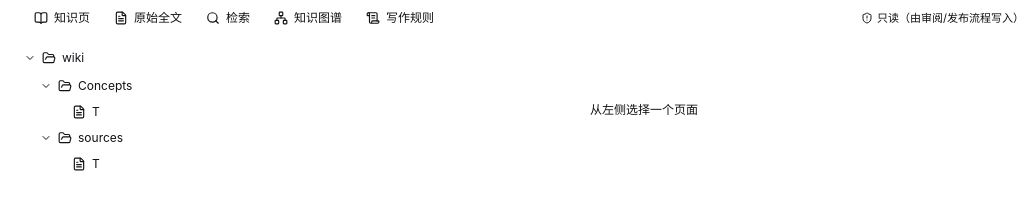
Test case: KbWikiTab 知识检索（issue 14 统一检索） › 点击 parsed 命中：浮层预览机械全文（kb.sourceParsed）
Expected: the element with test id "wiki-group-Concepts" is shown, [12,72,252,124]
Step 1. Click the button with test id "kb-wiki-search-tab" → coordinates (228, 18), box [196,6,260,30]
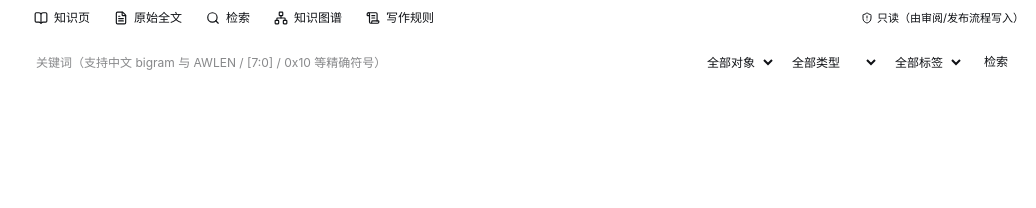
Result: the element with test id "kb-wiki-search" is shown at [28,48,1020,76]
Step 2. Type "DDS" into the field with test id "kb-wiki-search-input" → coordinates (360, 62), box [28,48,691,76]
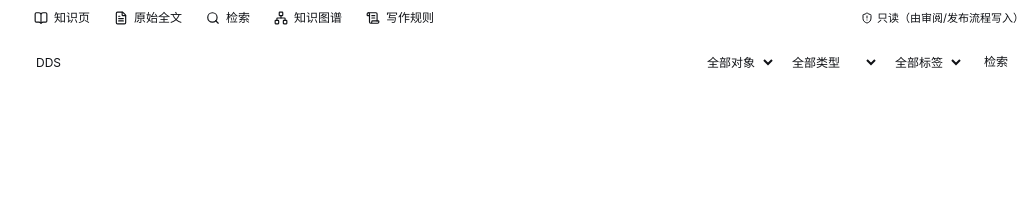
Step 3. Click the button with test id "kb-wiki-search-run" → coordinates (996, 62), box [972,48,1020,76]
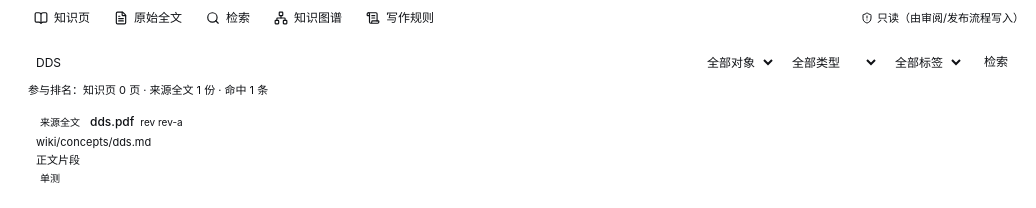
Step 4. Click the button with test id "kb-wiki-search-hit-parsed-src-1" → coordinates (60, 122), box [28,106,1020,192]
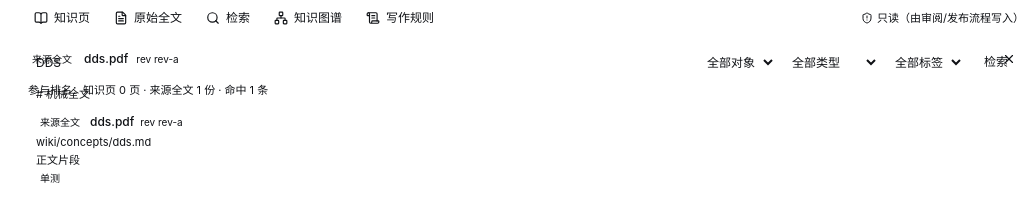
Result: the element with test id "kb-wiki-parsed-preview" is shown at [32,48,1020,101]
Result: the text "# 机械全文" is shown at [36,87,90,101]
Step 5. Click the button with test id "kb-wiki-parsed-close" → coordinates (1009, 59), box [998,48,1020,70]
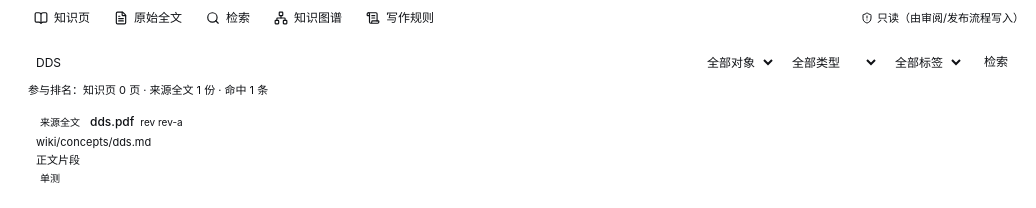
Result: the element with test id "kb-wiki-parsed-preview" is gone
